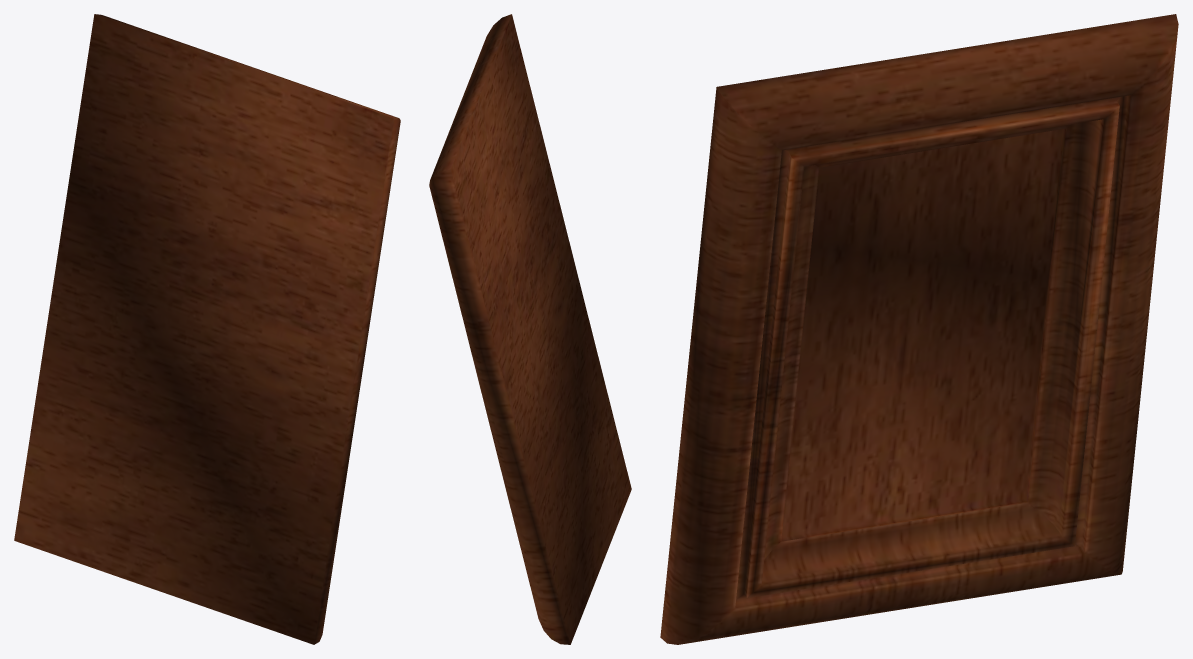
File: cuadro3.glb
3 views of the same model, side by side, from view 1: azimuth 30°, elevation 25°; view 2: azimuth 150°, elevation 25°; view 3: azimuth 270°, elevation 25° (orthographic). The views are drawn at different scales.
Visible parts, largest first — view 1: Marco.005; view 2: Marco.005; view 3: Marco.005.
Part boxes in pixels (left/top/right/bottom): Marco.005: left=14, top=14, right=400, bottom=644; Marco.005: left=429, top=14, right=631, bottom=644; Marco.005: left=660, top=14, right=1178, bottom=644.
Size of the model in its own units: 0.0908 by 0.179 by 0.1367.
1 material, 1 textured.
